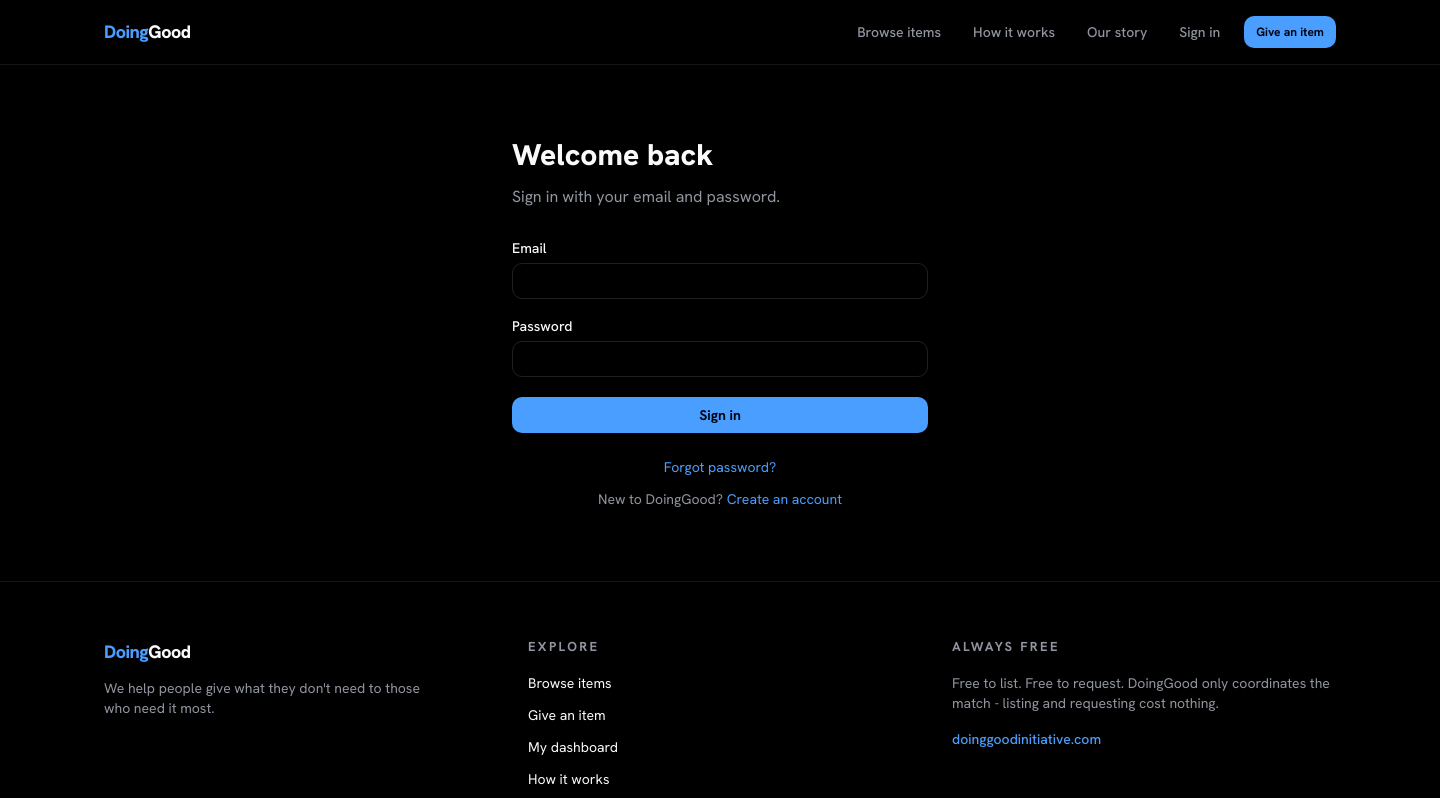
Scenario: Connected application routes › shows a separate account creation form
Click the button "Create an account".
click(784, 499)  # box [727,489,842,509]
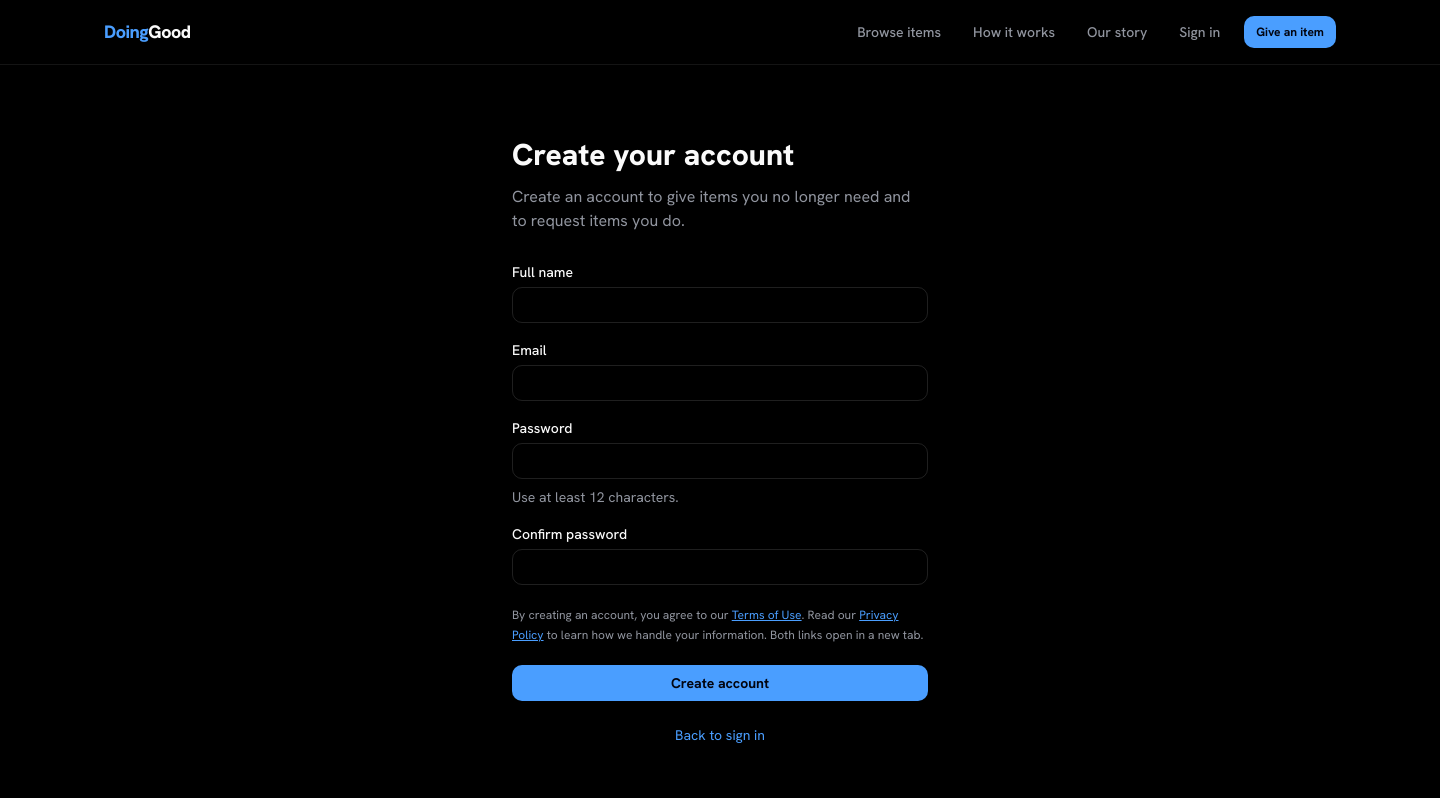
Now the heading "Create your account" is shown, box [512,135,794,174]
Type "Tolu Ade" into the field labelled "Full name".
click(720, 305); type("Tolu Ade")  # box [512,287,928,323]
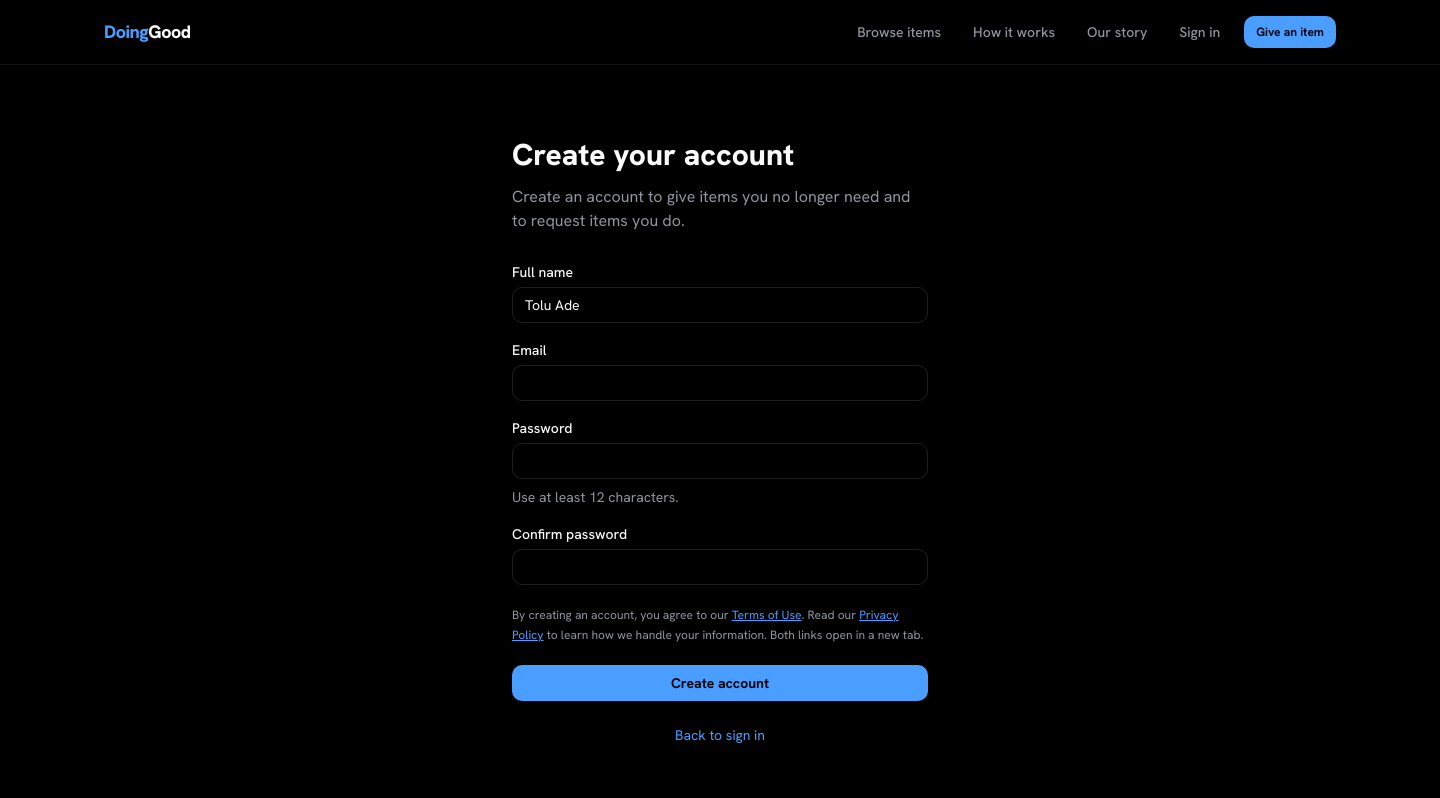
Type "neighbour@example.com" into the field labelled "Email".
click(720, 383); type("neighbour@example.com")  # box [512,365,928,401]
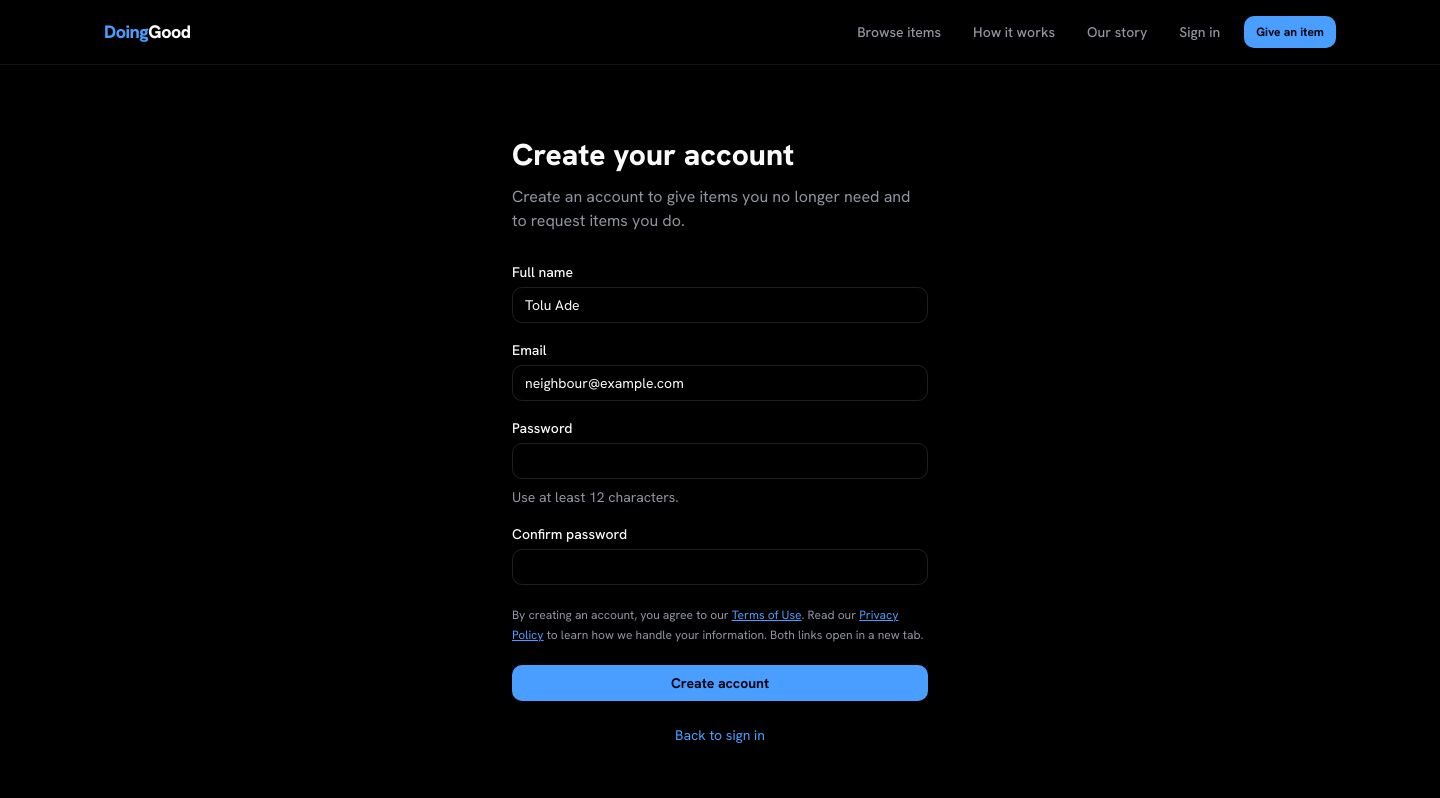
Type "Neighbour password 2026!" into the password field labelled "Password".
click(720, 461); type("Neighbour password 2026!")  # box [512,443,928,479]
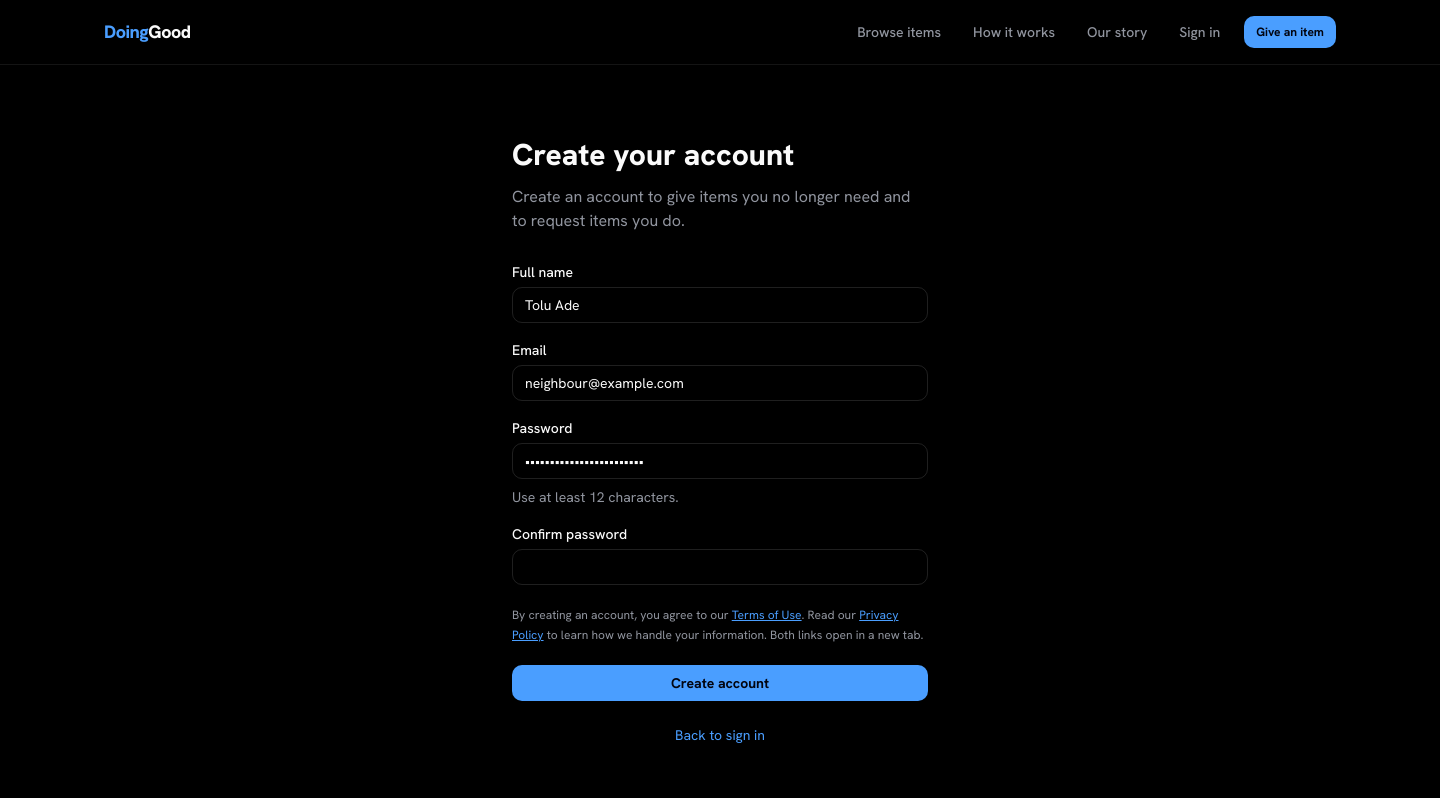
Type "Neighbour password 2026!" into the password field labelled "Confirm password".
click(720, 567); type("Neighbour password 2026!")  # box [512,549,928,585]
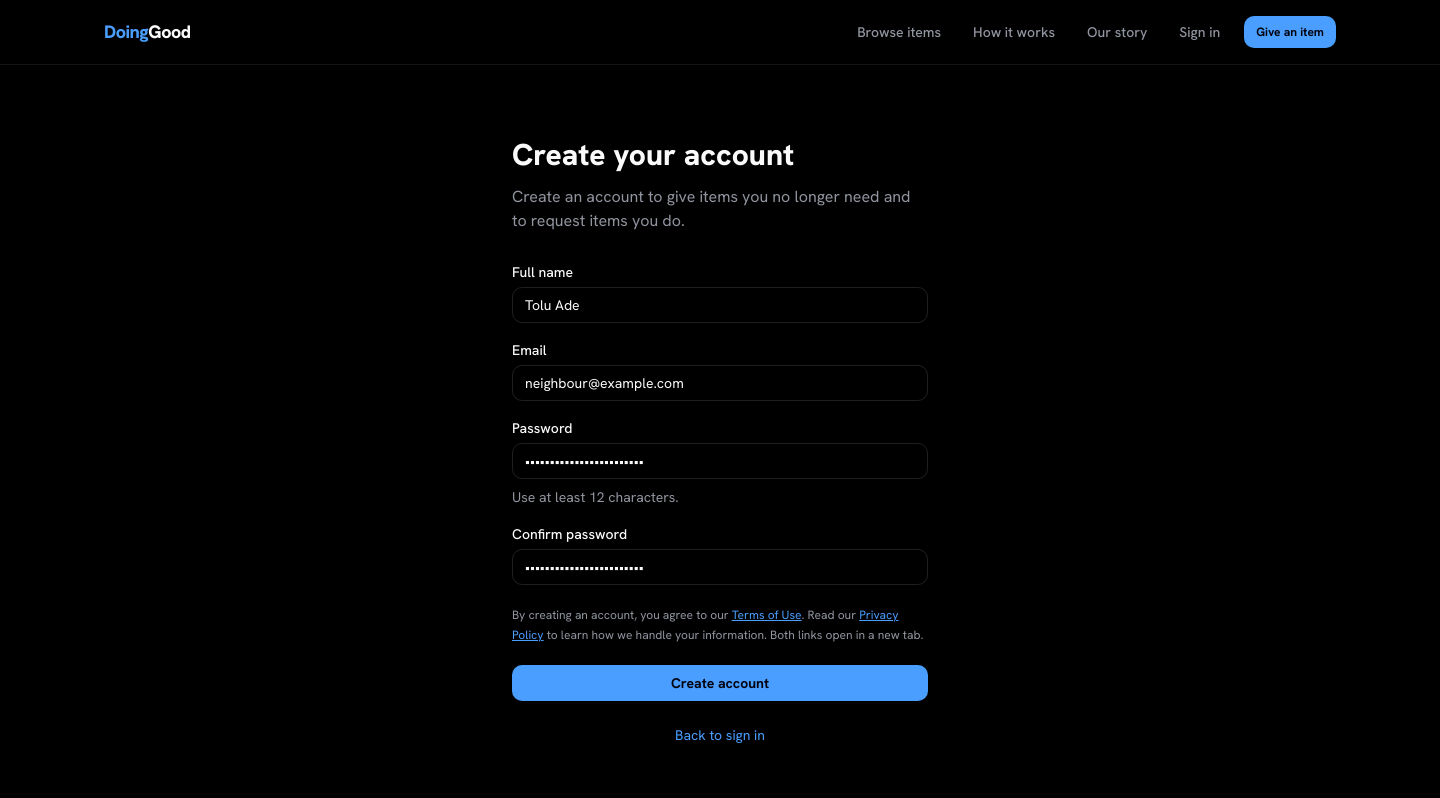
Click the button "Create account".
click(720, 683)  # box [512,665,928,701]
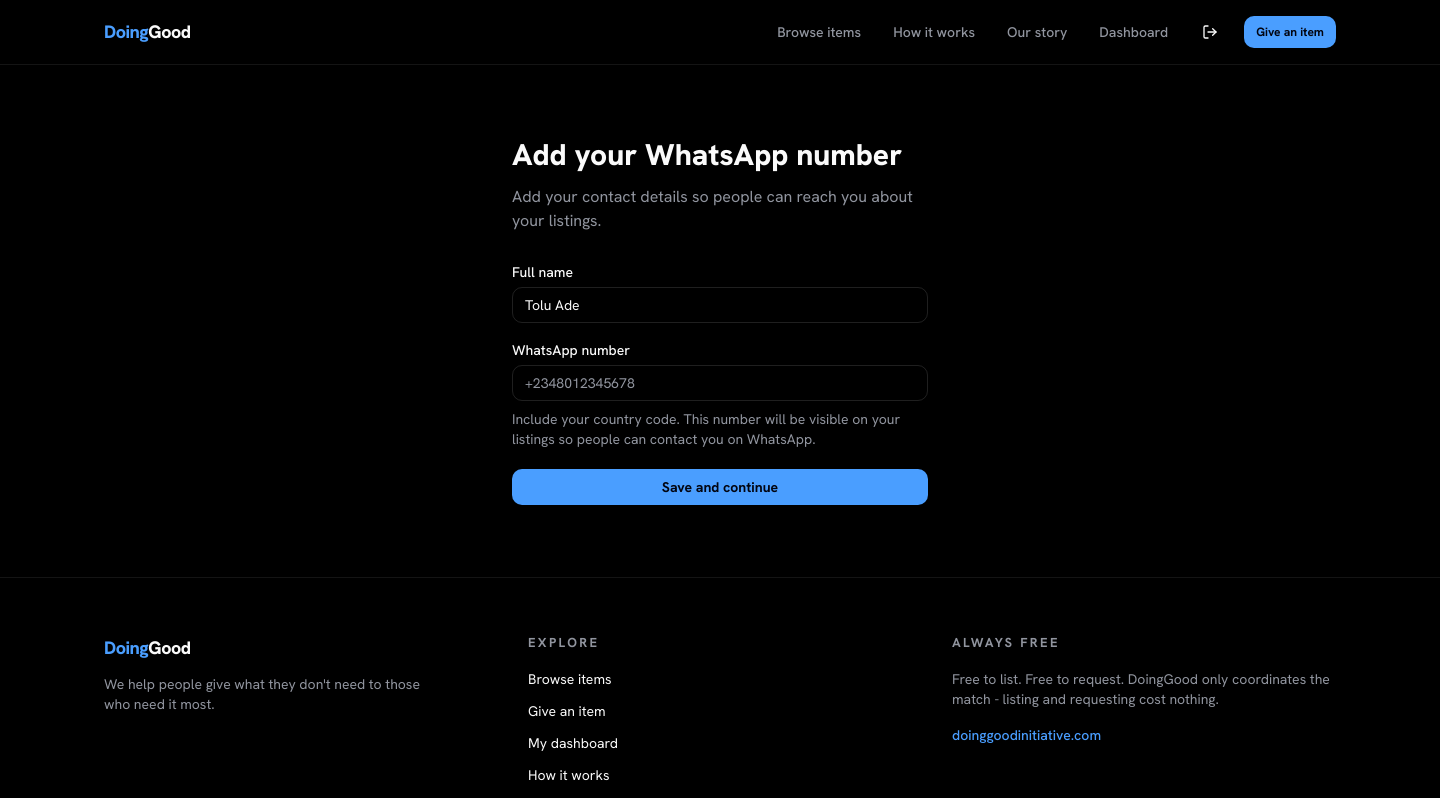
Now the field labelled "WhatsApp number" is shown, box [512,365,928,401]
